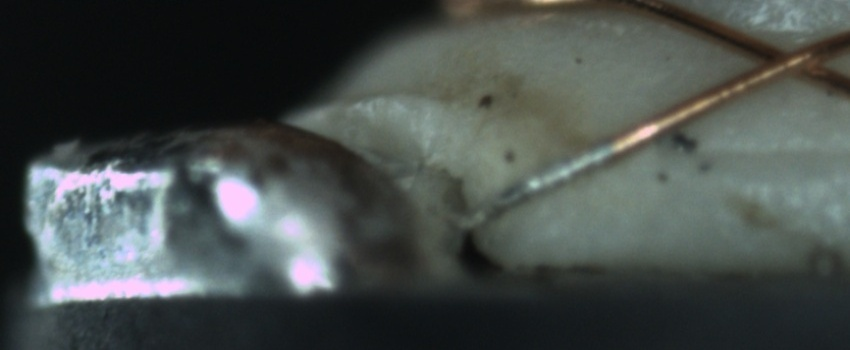CL: (736, 27, 840, 90)
DL: (634, 116, 850, 193)
TS: (452, 141, 615, 237)
